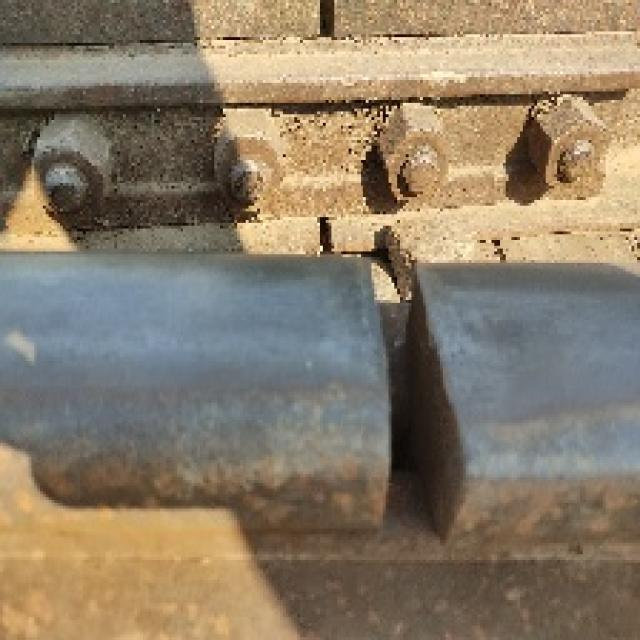Good Joint: (0, 36, 637, 232)
